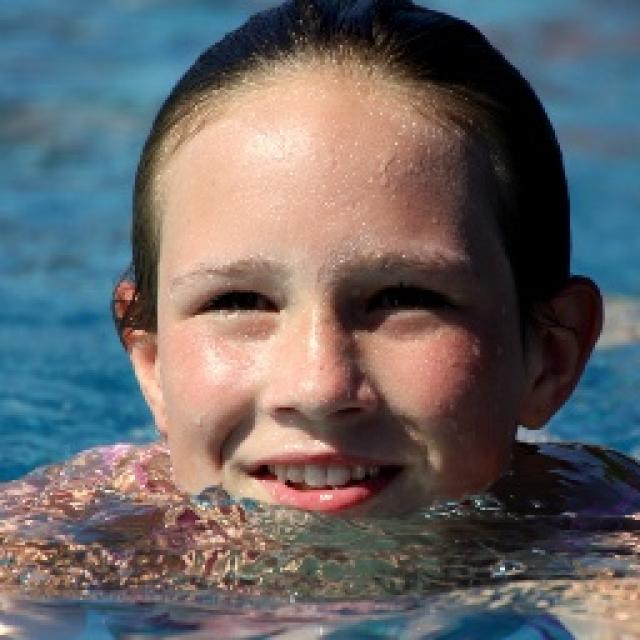earlobe: (515, 276, 604, 431), (112, 279, 170, 437)
